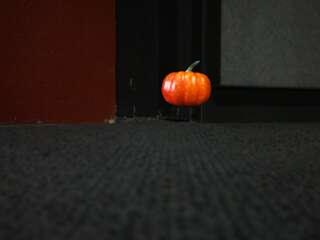Pumpkin: (160, 61, 213, 109)
